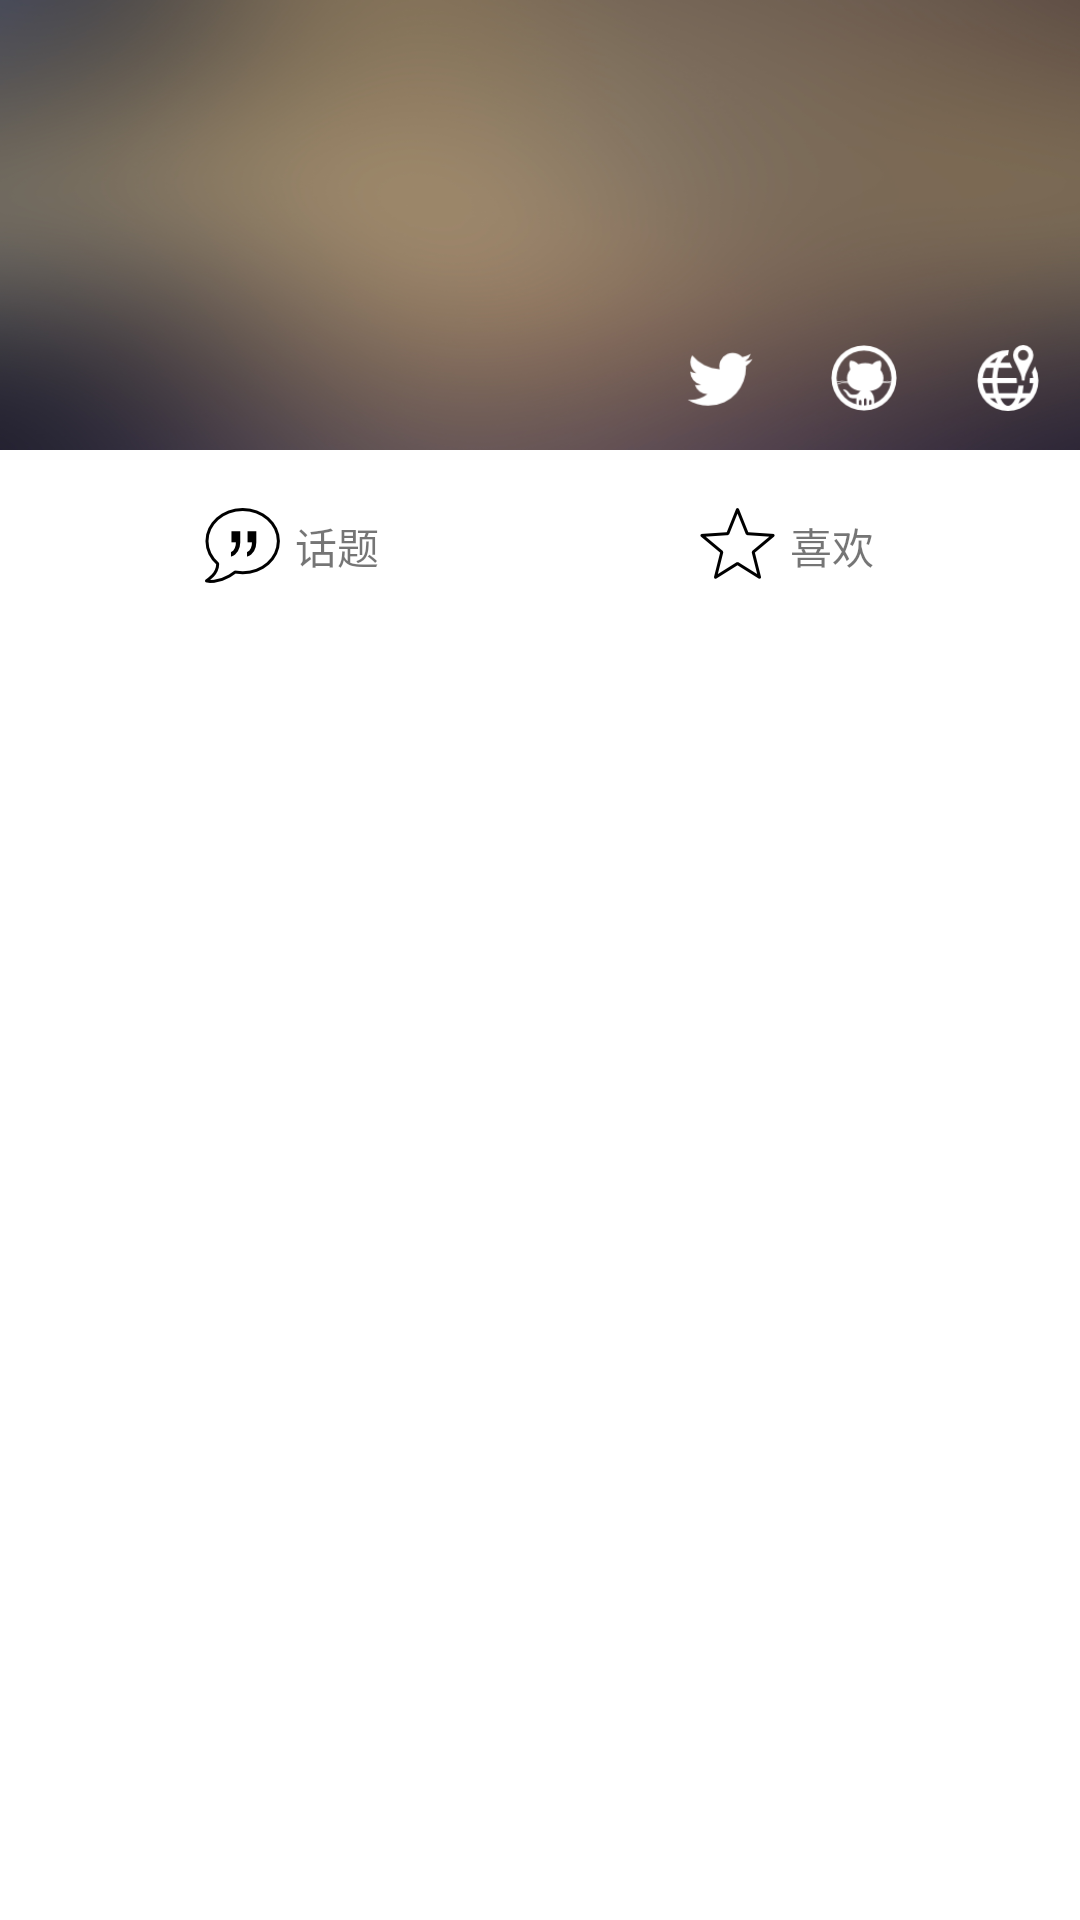

Named icons in this screenshot (1080×1920) and their centers, [x,y]:
quote: [242,545]
star: [737,543]
